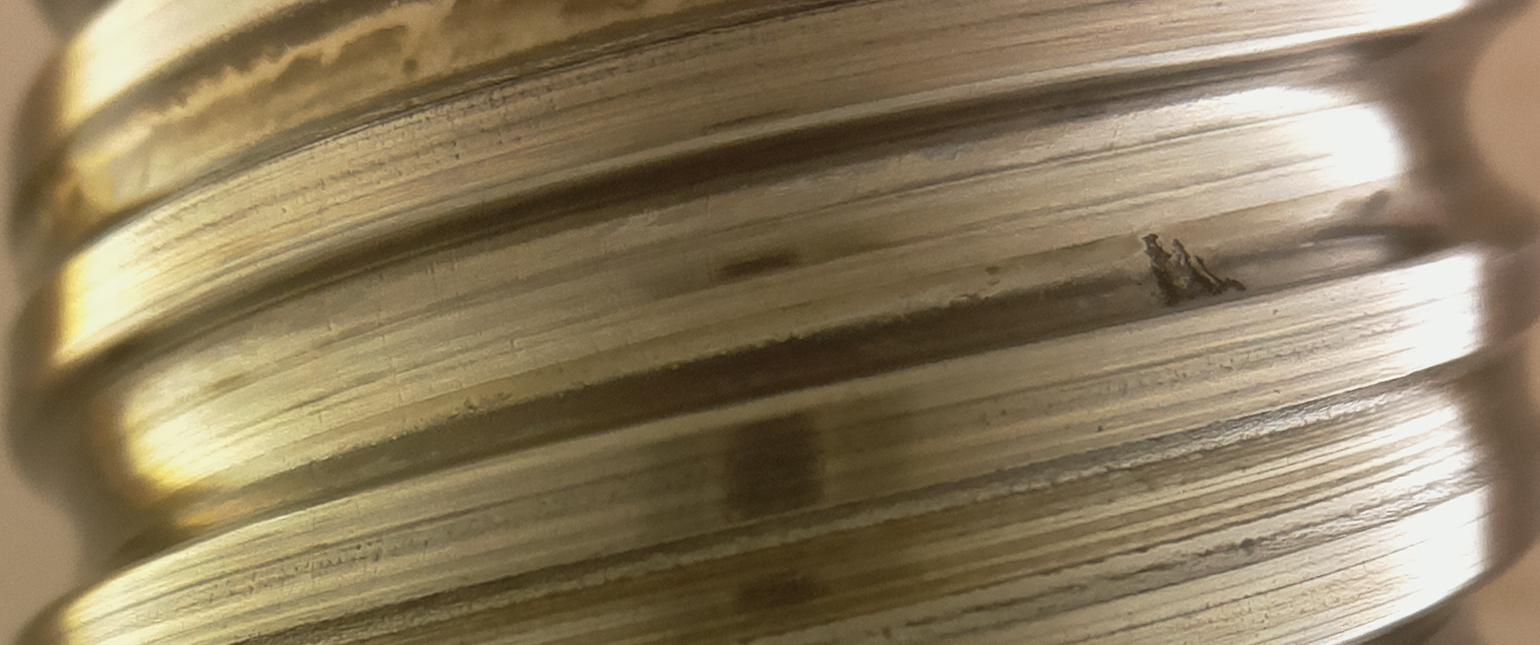pitting: (1141, 233, 1243, 305)
